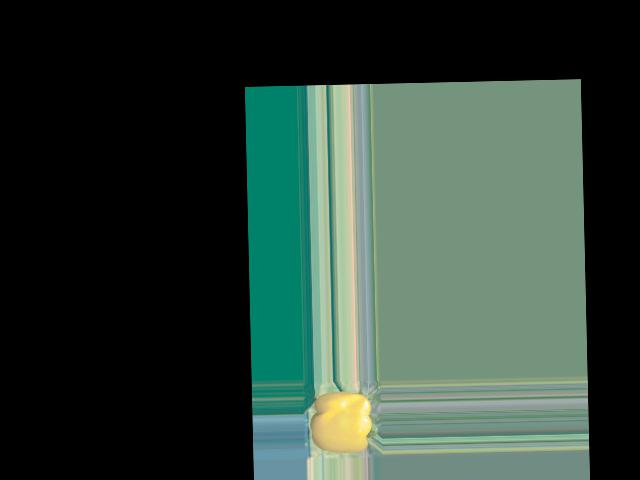bell_pepper: (308, 385, 378, 457)
